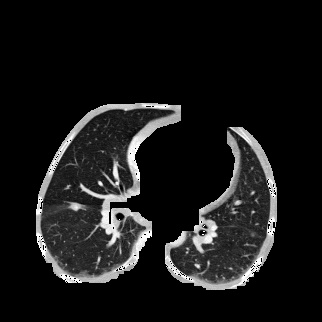PN: (70, 202, 80, 212)
